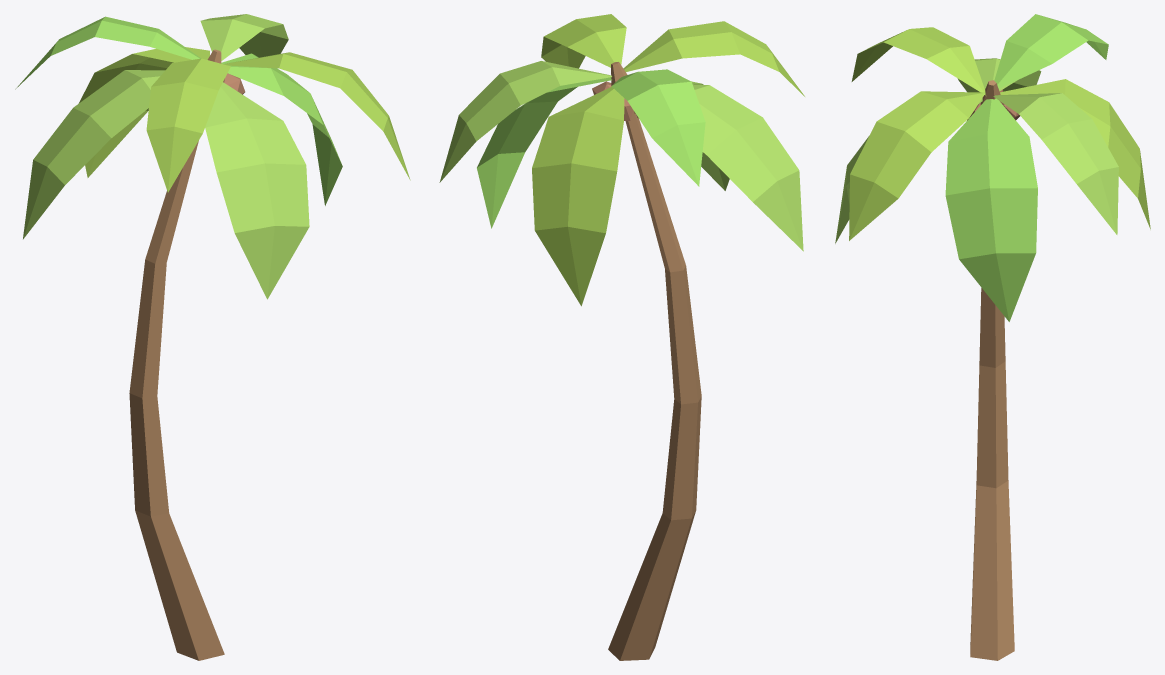
The model's file is Palm_Tree_Coconut_m_03_LOD.fbx.
The picture shows the model from 3 angles, left to right: view 1: azimuth 30°, elevation 25°; view 2: azimuth 150°, elevation 25°; view 3: azimuth 270°, elevation 25°; orthographic projection. The views are drawn at different scales.
Parts seen in each view (by area): view 1: Palm_Tree_Coconut_m_03_LOD0; view 2: Palm_Tree_Coconut_m_03_LOD0; view 3: Palm_Tree_Coconut_m_03_LOD0.
Boxes of the visible parts, x1,y1,x2,y2 form: Palm_Tree_Coconut_m_03_LOD0: [15, 14, 410, 660]; Palm_Tree_Coconut_m_03_LOD0: [439, 14, 804, 660]; Palm_Tree_Coconut_m_03_LOD0: [835, 14, 1150, 660].
Size of what is drawn, in the model's own units: 301 by 563 by 269.
